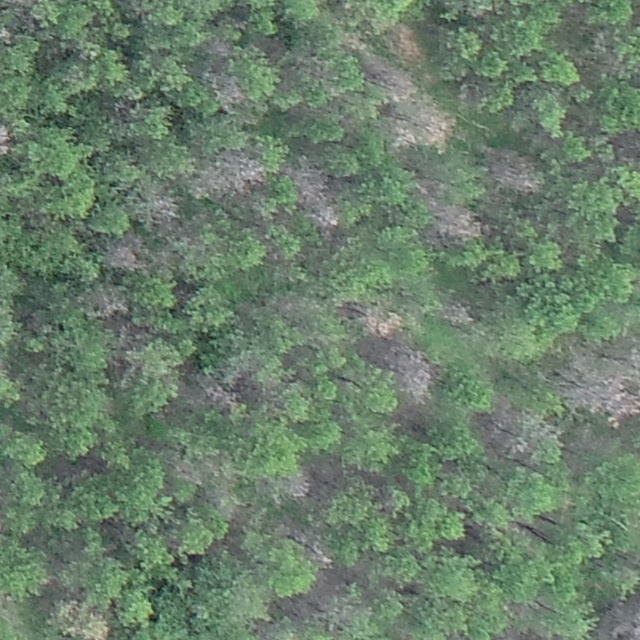unhealthy: (556, 352, 640, 428), (476, 398, 554, 462), (197, 149, 265, 199), (389, 343, 435, 401), (393, 104, 454, 147), (276, 517, 332, 563), (487, 151, 544, 196), (53, 599, 110, 639), (431, 202, 485, 242), (363, 56, 412, 99), (286, 164, 334, 207), (600, 596, 639, 640), (81, 284, 130, 319), (139, 190, 180, 230), (204, 71, 244, 108), (103, 238, 145, 273), (358, 305, 402, 338), (386, 24, 421, 62), (201, 383, 241, 411), (490, 624, 558, 639), (438, 300, 474, 327), (308, 205, 339, 235), (284, 473, 312, 499), (203, 36, 233, 59), (340, 32, 367, 53), (0, 116, 12, 159), (0, 26, 12, 46)
